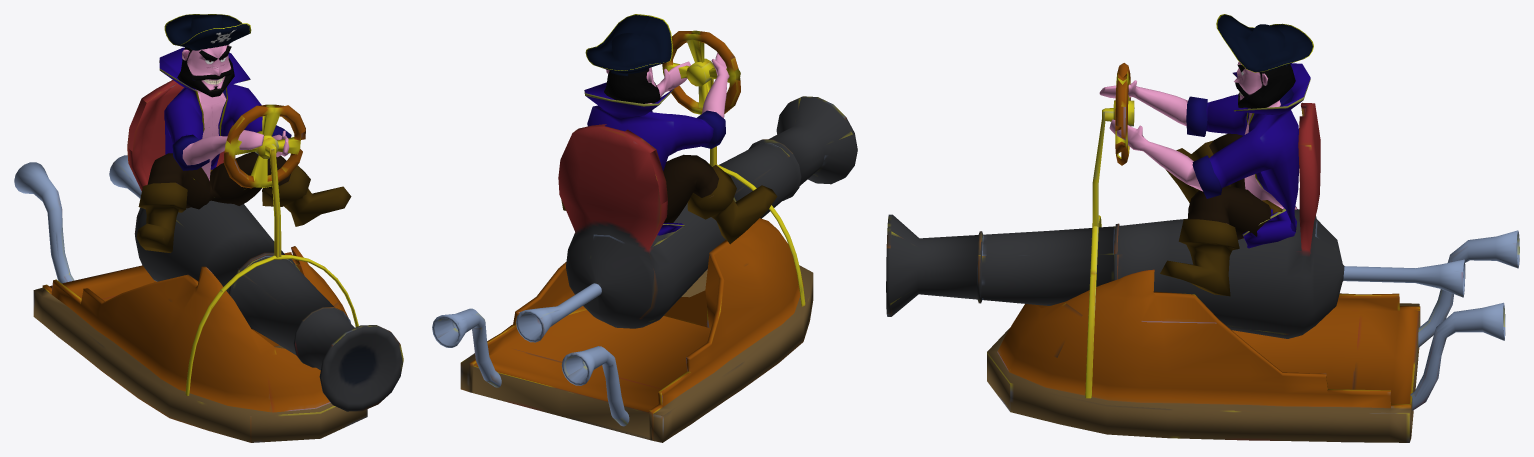
File: VacilePirata_000511.obj
The picture shows the model from 3 angles, left to right: view 1: azimuth 30°, elevation 25°; view 2: azimuth 150°, elevation 25°; view 3: azimuth 270°, elevation 25°; orthographic projection. The views are drawn at different scales.
Parts seen in each view (by area): view 1: carro_pirata_carro_pirata.001, Pirata_PirataH; view 2: carro_pirata_carro_pirata.001, Pirata_PirataH; view 3: carro_pirata_carro_pirata.001, Pirata_PirataH.
Part boxes in pixels (x1,y1,x2,y2): carro_pirata_carro_pirata.001: (14,80,403,442); Pirata_PirataH: (136,14,351,252); carro_pirata_carro_pirata.001: (432,30,857,442); Pirata_PirataH: (561,14,777,244); carro_pirata_carro_pirata.001: (886,63,1519,442); Pirata_PirataH: (1099,14,1313,296).
Bounding box in the file's own units: 5.12 × 7.7 × 12.1.
